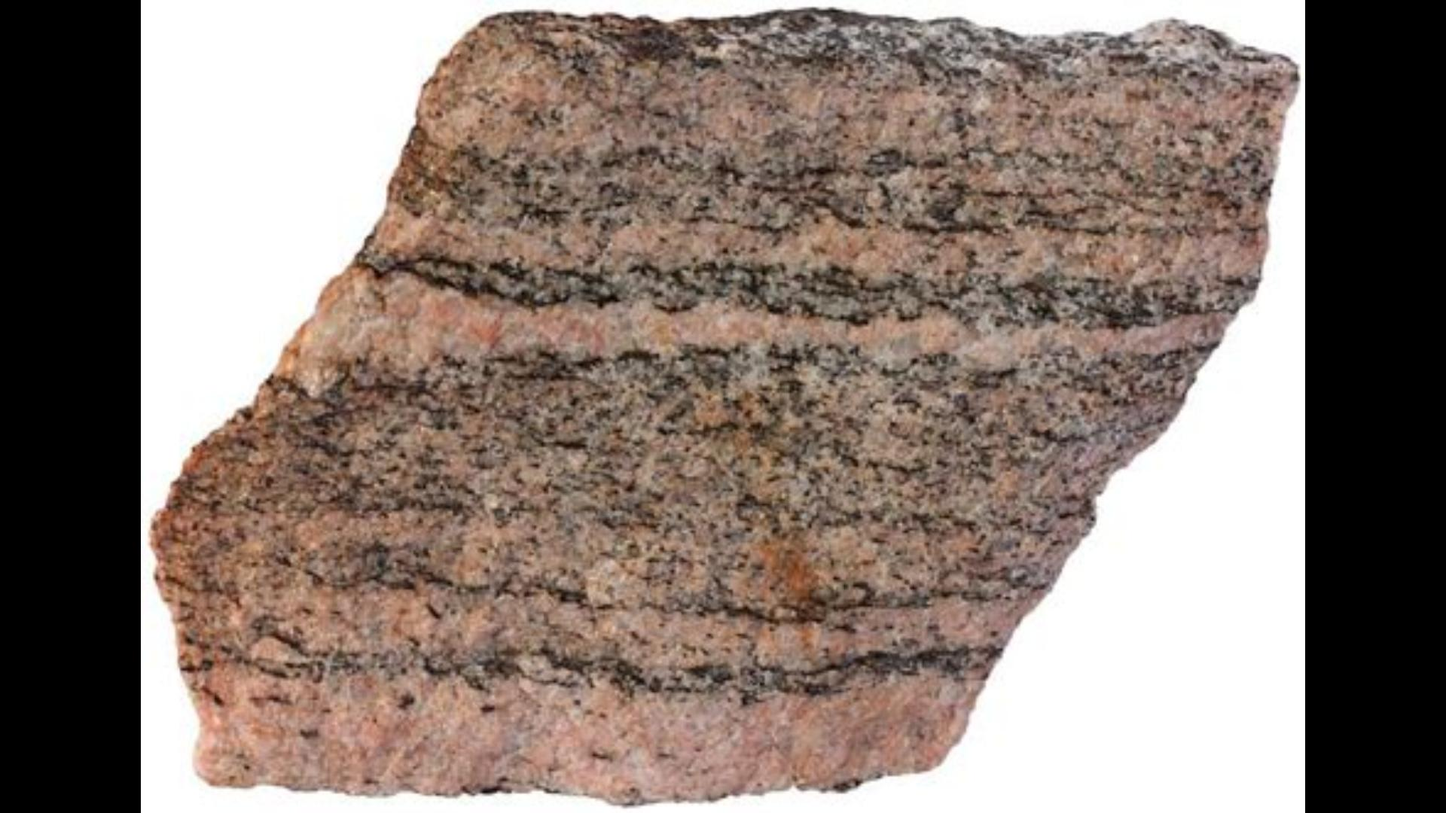rock: (156, 20, 1293, 796)
